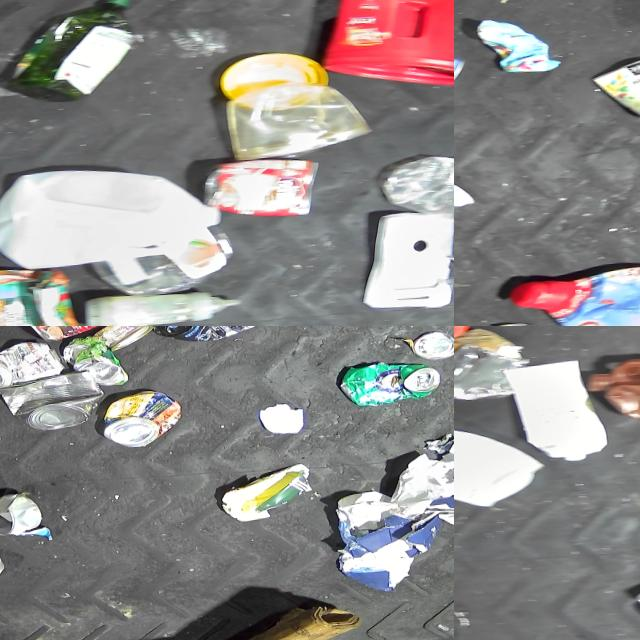can: (202, 158, 322, 233), (0, 370, 103, 433), (339, 366, 441, 414), (101, 392, 181, 452), (61, 338, 128, 391), (591, 58, 640, 129), (0, 341, 63, 395), (151, 326, 271, 347), (24, 326, 144, 344), (0, 492, 38, 538), (93, 326, 151, 355), (412, 337, 454, 367)
milk_jug: (0, 158, 220, 272)
non_white_jug: (326, 0, 454, 102), (577, 340, 640, 435)
